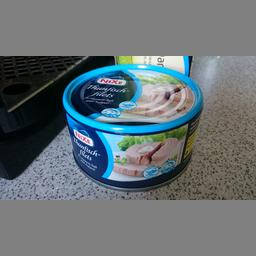fish: (58, 63, 204, 190)
